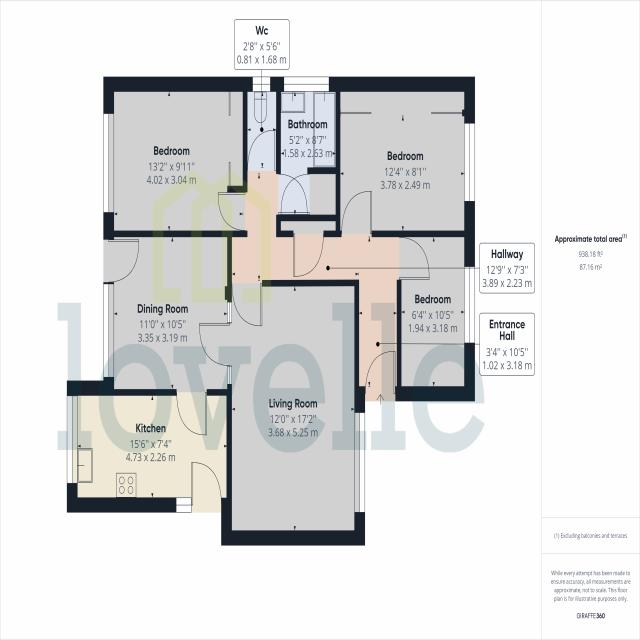DOOR: (103, 237, 141, 284), (364, 349, 397, 402), (191, 461, 223, 514), (396, 235, 431, 282), (340, 189, 373, 238), (175, 388, 208, 437), (231, 279, 263, 327), (276, 171, 309, 217), (199, 322, 232, 367), (246, 129, 277, 172), (217, 190, 248, 232)
ROOM: (198, 279, 366, 546), (102, 230, 232, 436), (102, 76, 248, 238), (335, 76, 475, 237), (66, 380, 232, 513), (396, 230, 475, 402)
WINDOW: (102, 111, 115, 216), (102, 283, 115, 380), (354, 410, 366, 514), (66, 394, 79, 486), (463, 122, 476, 203), (463, 265, 476, 345), (283, 76, 330, 93), (252, 76, 271, 93), (175, 497, 192, 514), (227, 301, 232, 324), (227, 366, 232, 385)
